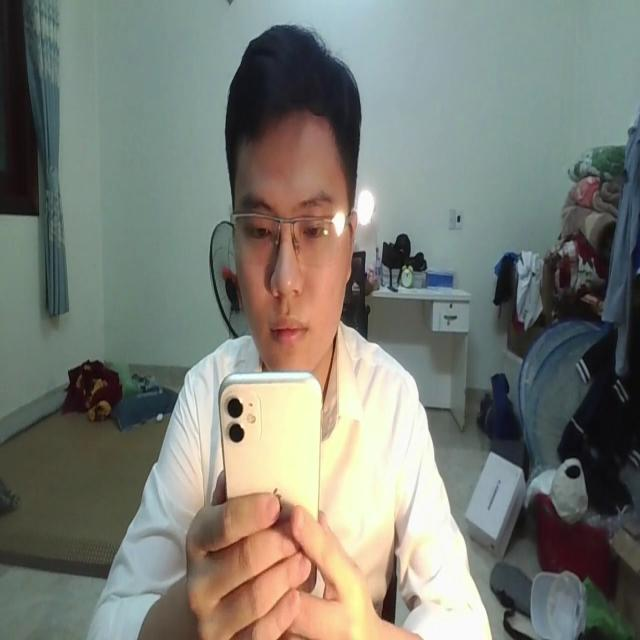phone: (218, 370, 324, 576)
student: (90, 22, 488, 640)
